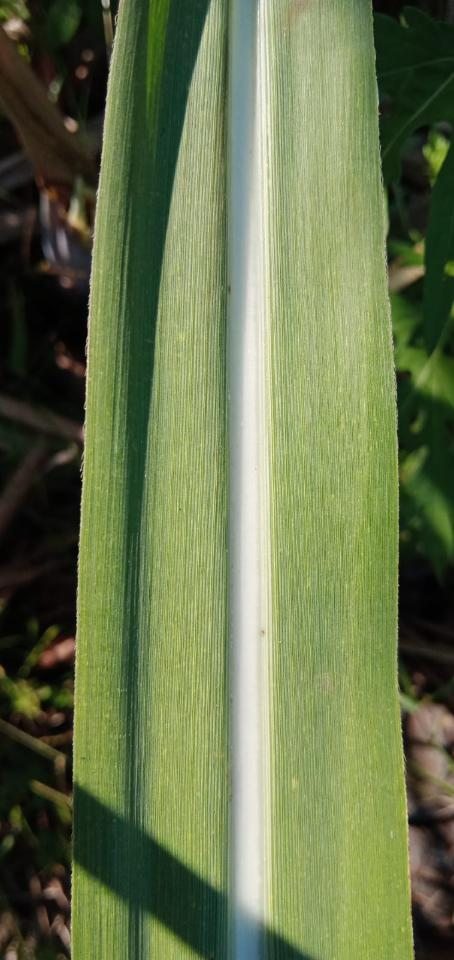Healthy: (73, 0, 413, 959)
